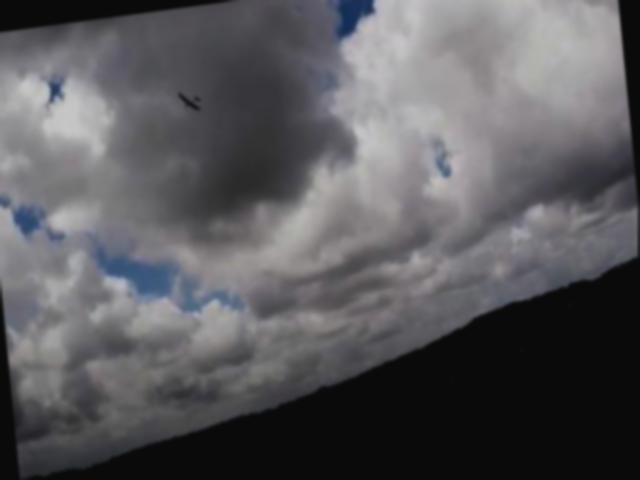iha: (178, 89, 203, 116)
